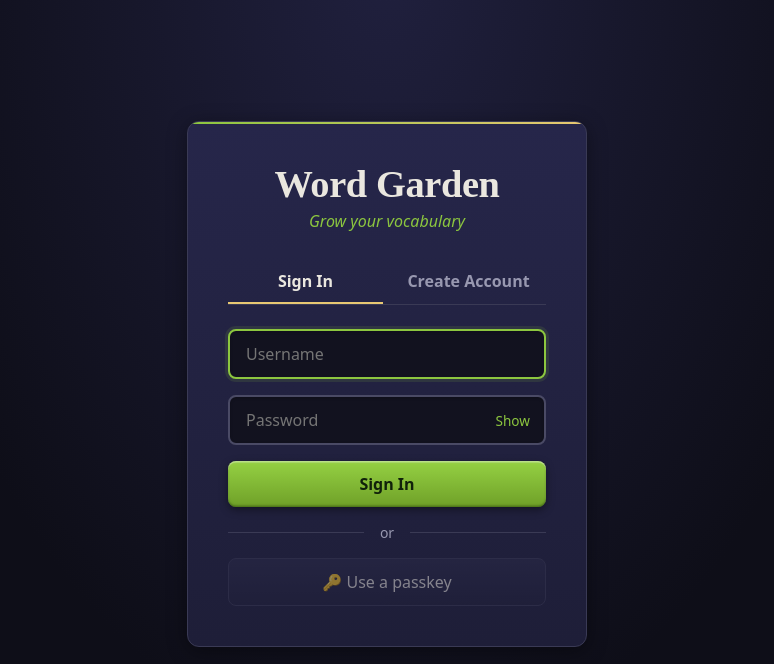
Test: Loading and focus › shows the in-flight label on the passkey button, not the primary, during a passkey sign-in
Type "alice" into the field with placeholder "Username".
click(387, 354); type("alice")  # box [228,329,546,379]
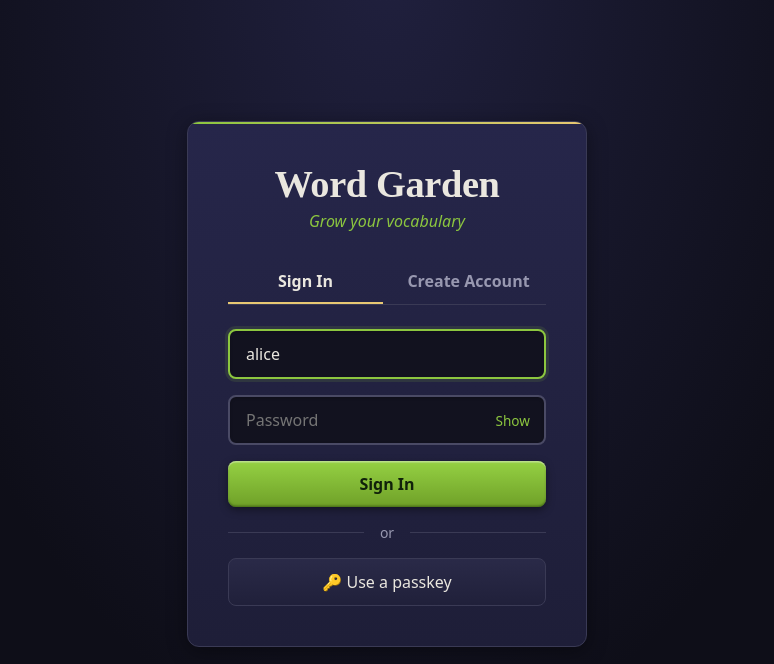
Click the button "🔑 Use a passkey".
click(387, 582)  # box [228,558,546,606]
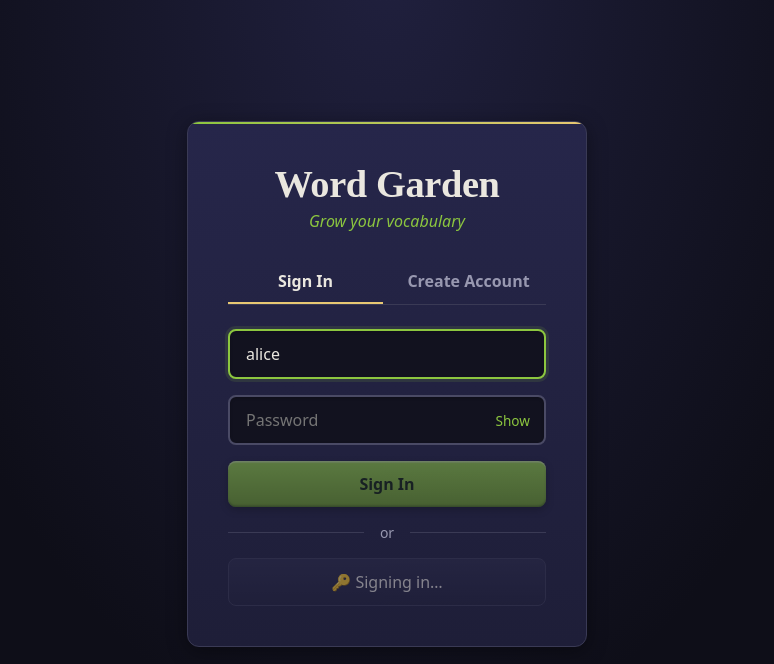
Expected: the button "Sign In" is shown, [228,461,546,507]
Result: the button "🔑 Signing in…" is shown at [228,558,546,606]
